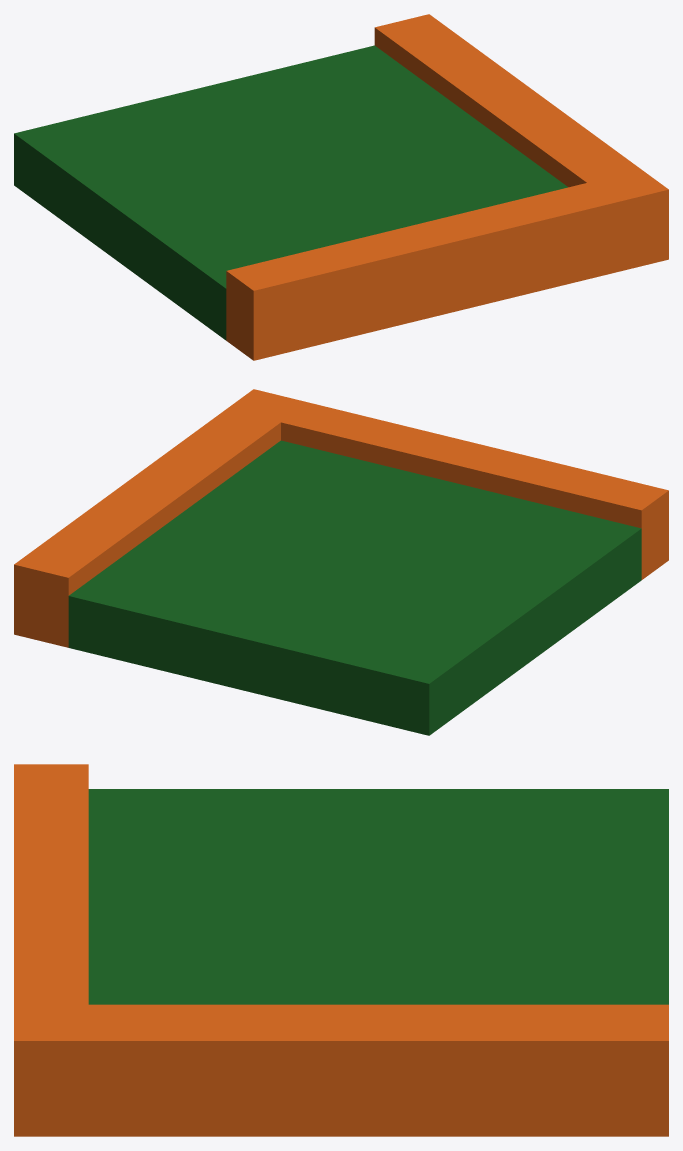
The model's file is MOD_solherbeangle.FBX.
The picture shows the model from 3 angles, top to bottom: view 1: azimuth 30°, elevation 25°; view 2: azimuth 150°, elevation 25°; view 3: azimuth 270°, elevation 25°; orthographic projection. The views are drawn at different scales.
Visible parts, largest first — view 1: MOD_solherbeangle; view 2: MOD_solherbeangle; view 3: MOD_solherbeangle.
Boxes of the visible parts, <box> form: MOD_solherbeangle: <box>14,14,668,360</box>; MOD_solherbeangle: <box>14,389,668,735</box>; MOD_solherbeangle: <box>14,764,668,1136</box>.
Bounding box in the file's own units: 1 × 0.1611 × 1.
